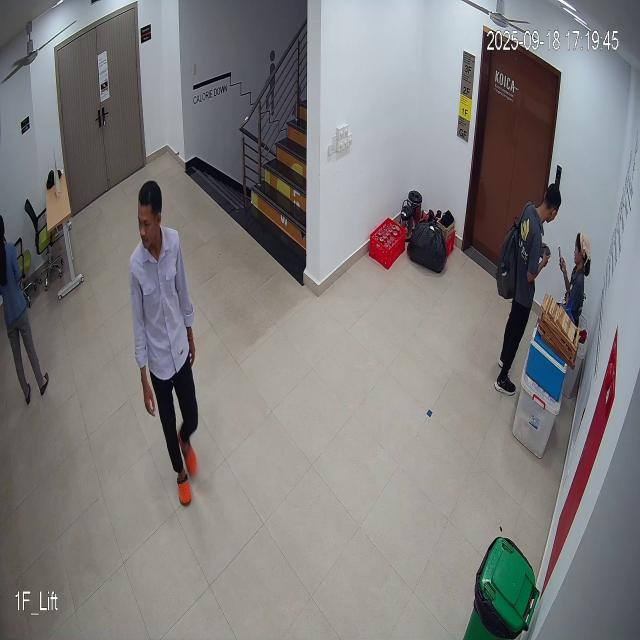face: (131, 178, 165, 256)
